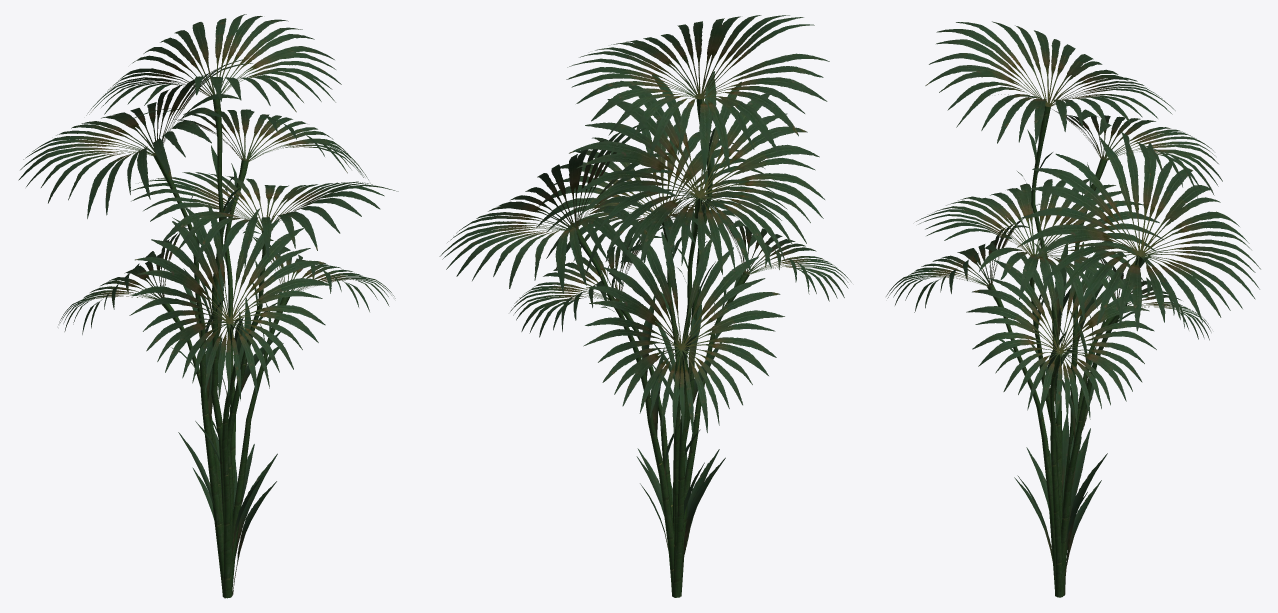
The model's file is Plant - Alien Plant 01 2-dnB7HedQ.glb.
3 views of the same model, side by side, from view 1: azimuth 30°, elevation 25°; view 2: azimuth 150°, elevation 25°; view 3: azimuth 270°, elevation 25° (orthographic). The views are drawn at different scales.
Visible parts, largest first — view 1: Plant1_2(Clone); view 2: Plant1_2(Clone); view 3: Plant1_2(Clone).
Boxes of the visible parts, x1=… form: Plant1_2(Clone): x1=18, y1=14, x2=398, y2=598; Plant1_2(Clone): x1=439, y1=15, x2=851, y2=597; Plant1_2(Clone): x1=886, y1=21, x2=1260, y2=597.
Size of the model in its own units: 3.83 by 6.24 by 4.
Materials: 2 (2 with a texture image).
